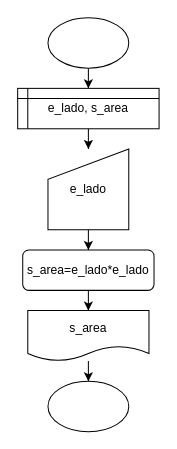
This 177x449 diagram has some shape labels left out. Here are the shapes that lost their labels. From the top down, the centre of each, then its label:
[88,42]: star
[88,406]: end
